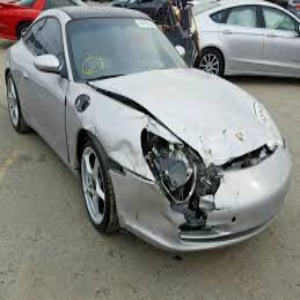bumper: (113, 176, 234, 251)
